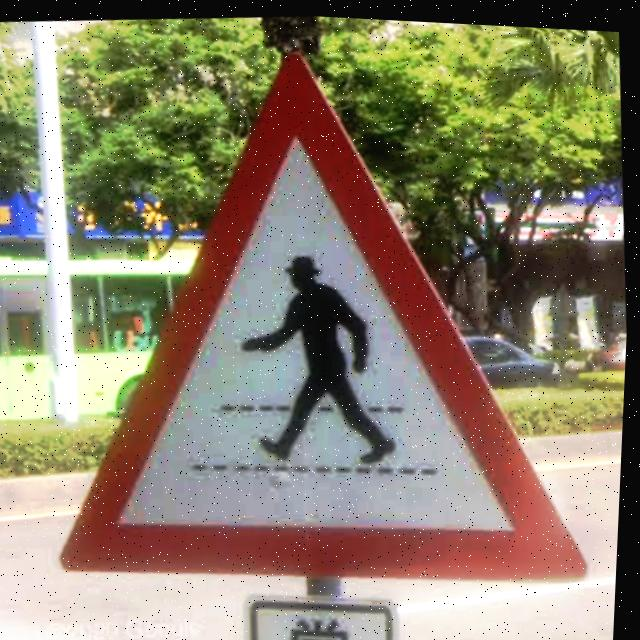pedestriancross: (64, 49, 594, 579)
